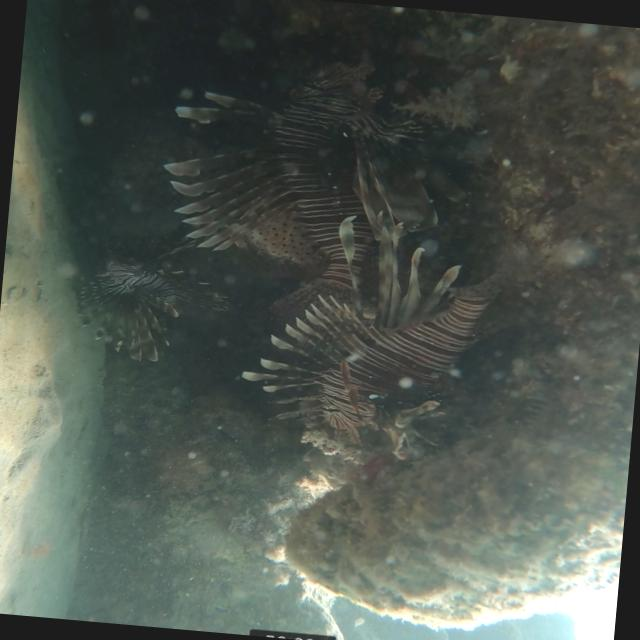Aslan Baligi: (208, 205, 499, 464)
